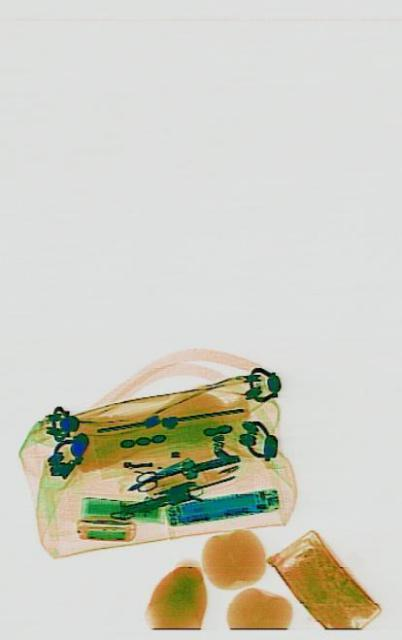Scissors: (134, 454, 197, 492)
